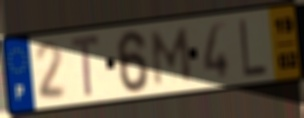2: (33, 40, 69, 102)
4: (201, 20, 232, 82)
6: (115, 28, 152, 94)
L: (237, 17, 270, 79)
M: (150, 26, 194, 89)
T: (69, 32, 102, 101)
